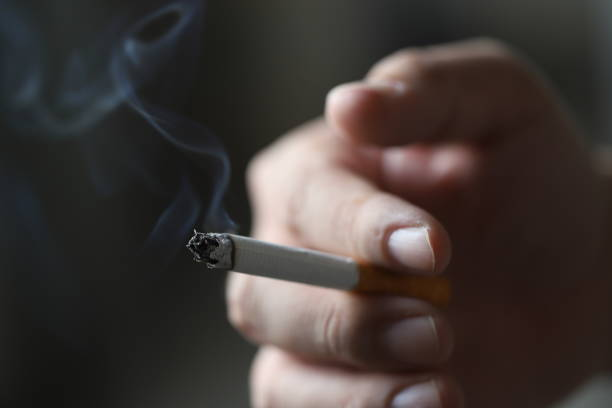cigarette: (186, 227, 459, 307)
